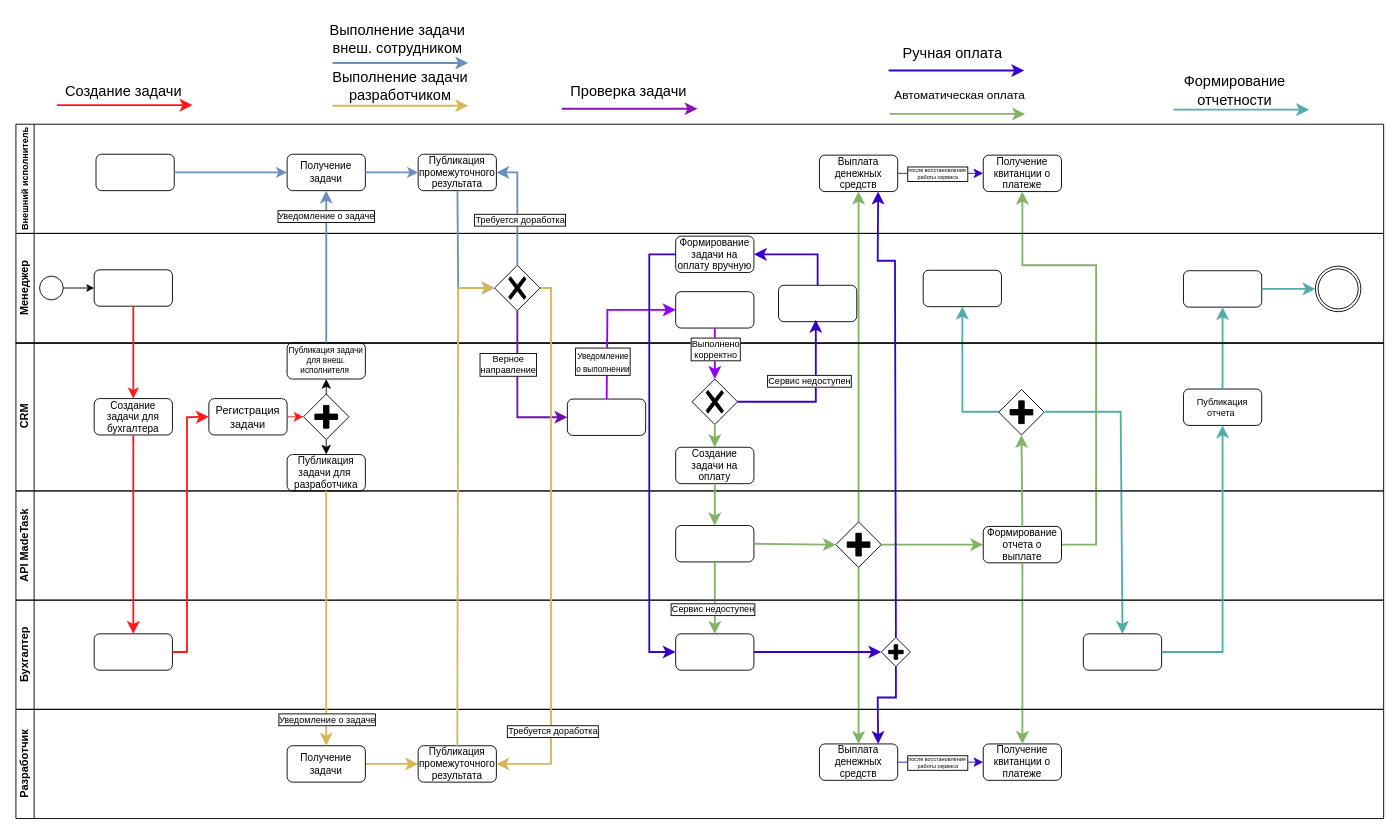
The diagram is 1400 pixels wide and 834 high, and some of its shapes have lost their labels. The shapes that lost their labels are listed below. From the top down, each one's centre as x and y in pixels, then its label:
At pixel 134 172: "Регистрация в CRM".
At pixel 132 287: "создает задачу проекта в CRM".
At pixel 817 303: "Отметка о выполнении вручную".
At pixel 961 288: "Получение отчета о выплатах".
At pixel 1222 288: "Согласование затрат".
At pixel 714 309: "Проверка результата".
At pixel 606 416: "Публикация итоговой работы".
At pixel 714 543: "Формирование выплаты".
At pixel 132 651: "Формирование бюджета проекта".
At pixel 714 651: "Формирование выплаты и отчета вручную".
At pixel 1122 651: "Формирование отчета о затратах на проект".
